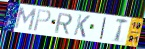I: (99, 17, 108, 41)
K: (73, 13, 91, 39)
M: (13, 6, 38, 32)
P: (32, 9, 53, 33)
R: (53, 12, 74, 35)
T: (114, 17, 129, 43)
